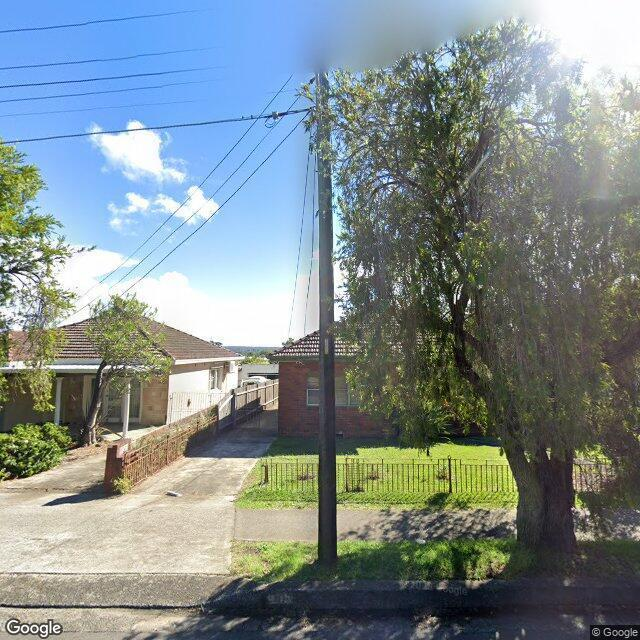timber-pole: (314, 73, 340, 557)
